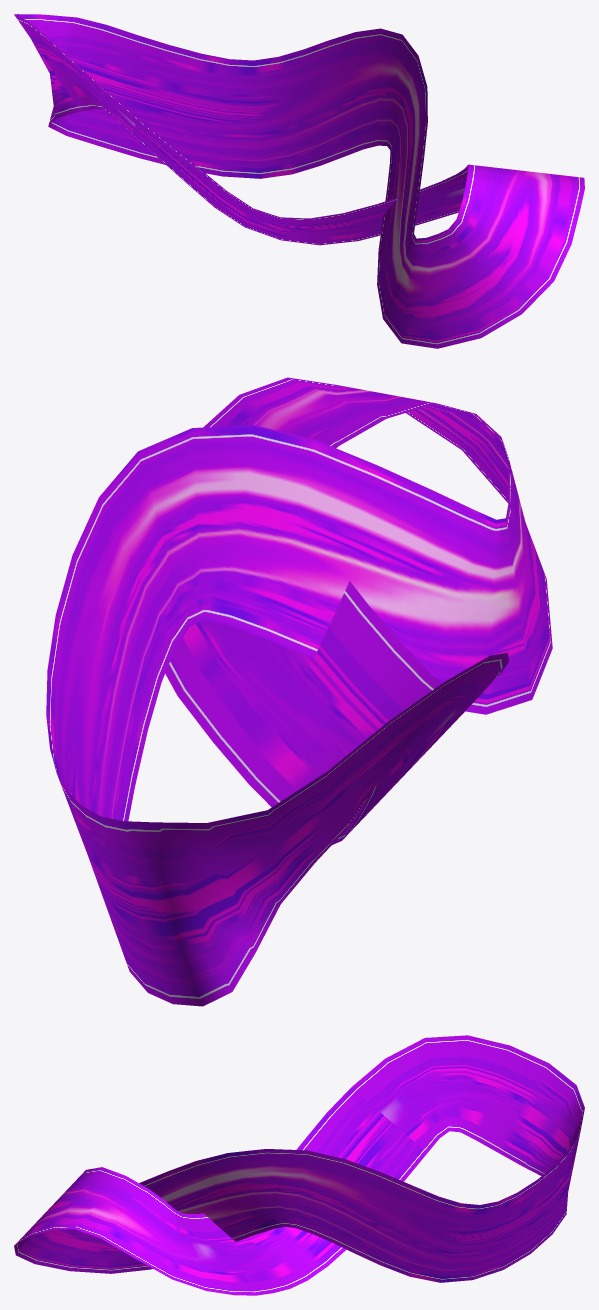
The model's file is 3010wuqi.FBX.
The picture shows the model from 3 angles, top to bottom: view 1: azimuth 30°, elevation 25°; view 2: azimuth 150°, elevation 25°; view 3: azimuth 270°, elevation 25°; orthographic projection. The views are drawn at different scales.
Parts seen in each view (by area): view 1: 3010wuqi; view 2: 3010wuqi; view 3: 3010wuqi.
Part boxes in pixels (x1,y1,x2,y2): 3010wuqi: (14, 14, 584, 348); 3010wuqi: (46, 377, 552, 1006); 3010wuqi: (14, 1035, 584, 1295).
Bounding box in the file's own units: 15.45 × 8.46 × 25.36.
1 material, 1 textured.
